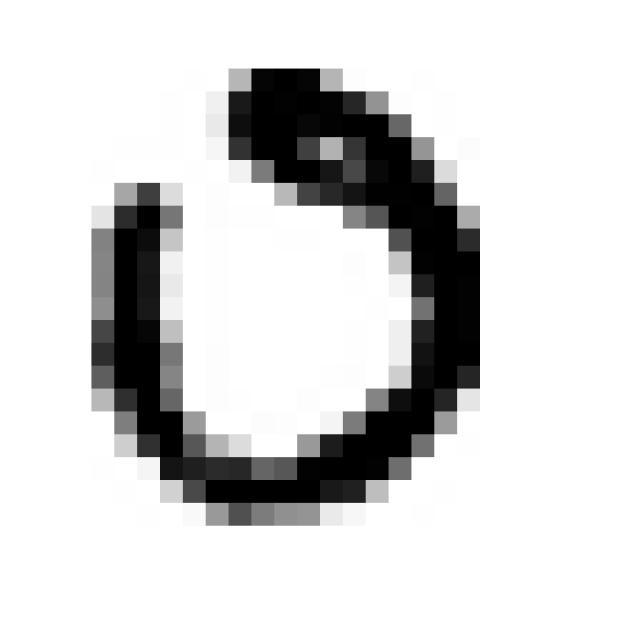5 -five-: (73, 46, 498, 532)
